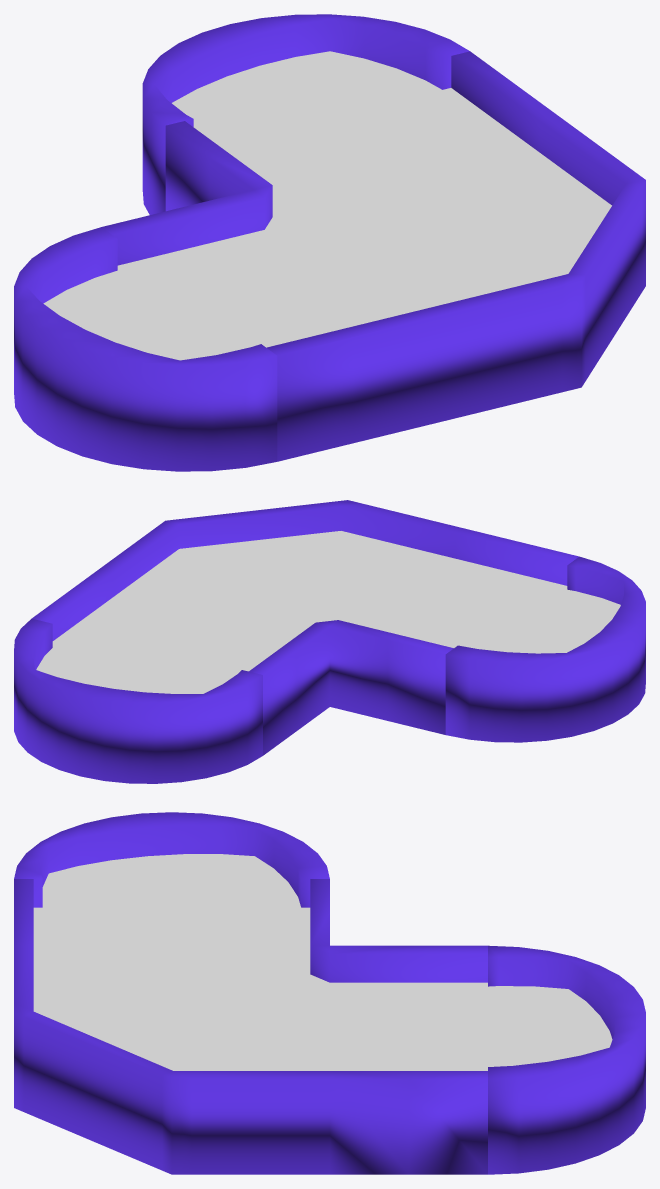
File: bassein.glb
3 renders of one model, top to bottom at view 1: azimuth 30°, elevation 25°; view 2: azimuth 150°, elevation 25°; view 3: azimuth 270°, elevation 25°, orthographic. The views are drawn at different scales.
Parts seen in each view (by area): view 1: Окружность, water; view 2: Окружность, water; view 3: Окружность, water.
Boxes of the visible parts, x1,y1,x2,y2 form: Окружность: (14, 14, 645, 471); water: (43, 51, 611, 360); Окружность: (14, 500, 645, 783); water: (36, 531, 620, 693); Окружность: (14, 812, 645, 1174); water: (33, 854, 612, 1070).
Bounding box in the file's own units: 12 × 2 × 12.
